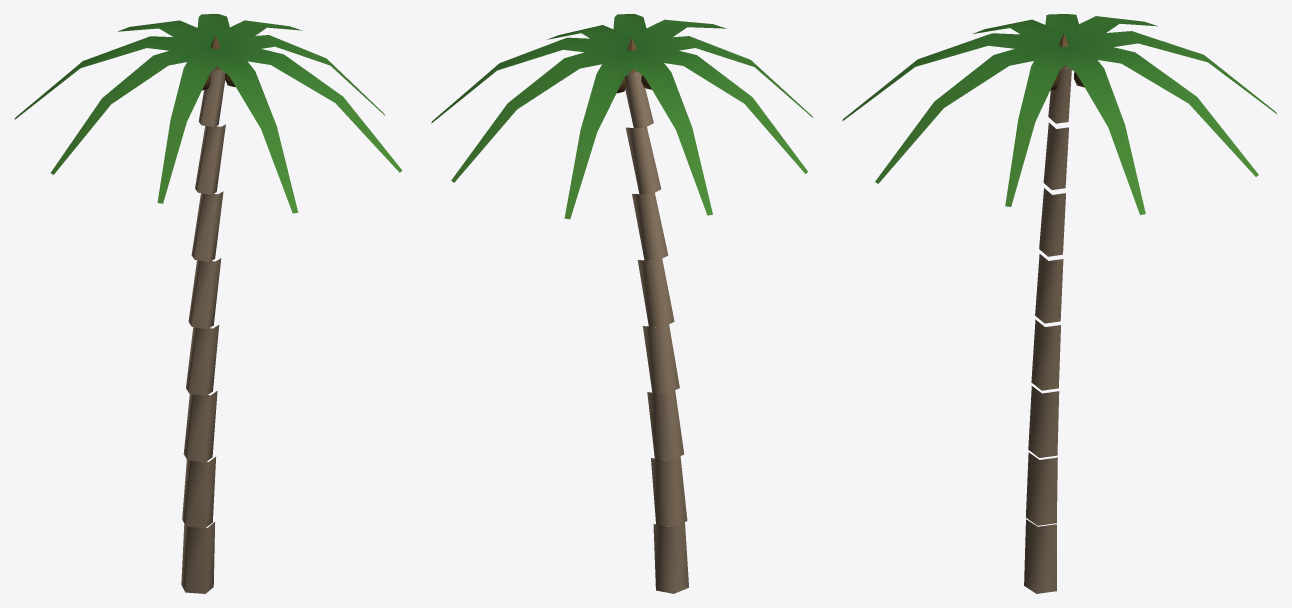
The model's file is palm_demo.glb.
The picture shows the model from 3 angles, left to right: view 1: azimuth 30°, elevation 25°; view 2: azimuth 150°, elevation 25°; view 3: azimuth 270°, elevation 25°; orthographic projection. The views are drawn at different scales.
Size of the model in its own units: 5.71 by 9 by 6.24.
